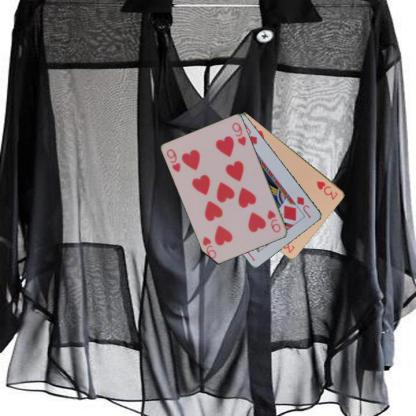3h: (314, 179, 339, 201)
9h: (164, 146, 182, 174), (265, 207, 282, 234)
Jd: (294, 194, 313, 220)
